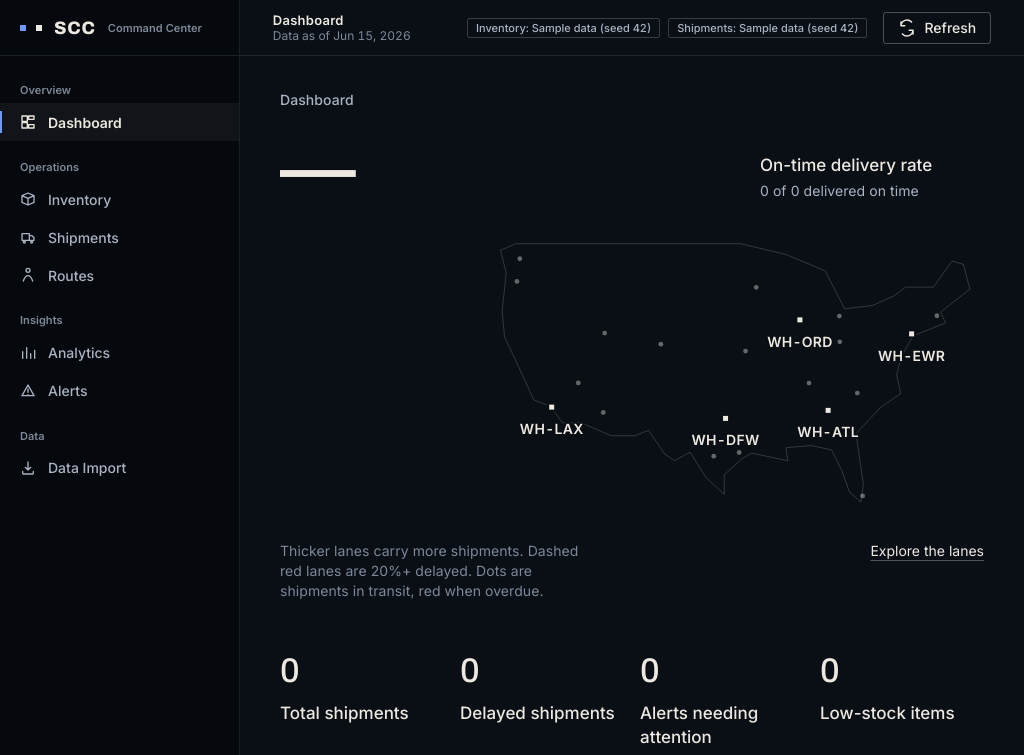
it: App › navigating via the sidebar changes the heading and aria-current
The width and height of the screenshot is (1024, 755).
Expected: the heading "Dashboard" is shown, x1=280 y1=91 x2=354 y2=108
Click the link "Inventory". click: coordinates (66, 199)
box: x1=20 y1=191 x2=111 y2=208
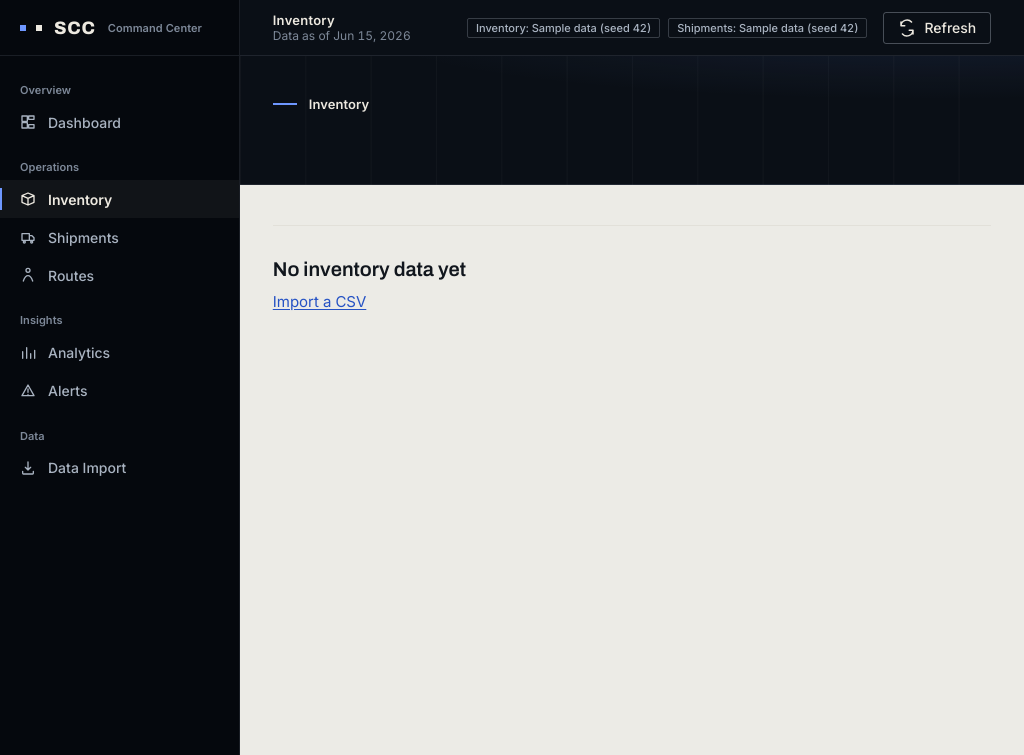
Expected: the heading "Inventory" is shown, x1=273 y1=96 x2=369 y2=112
